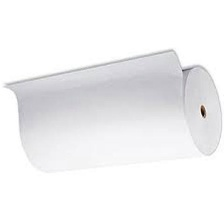tissue: (0, 46, 224, 180)
